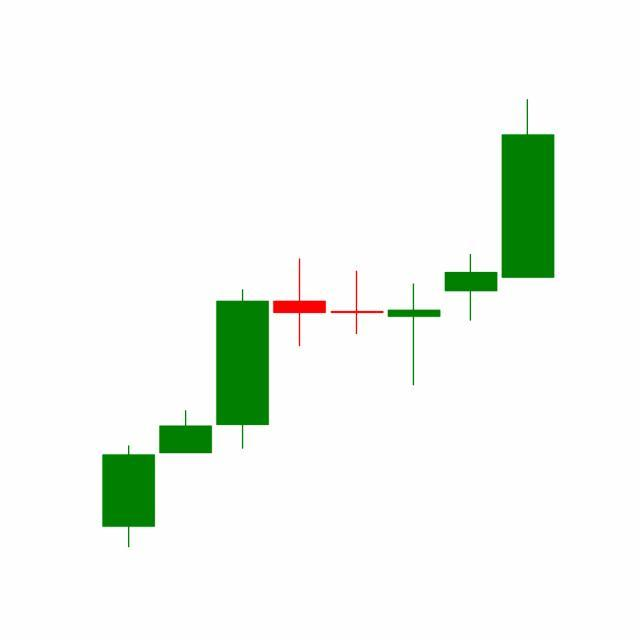Hikkake Pattern: (270, 99, 555, 390)
